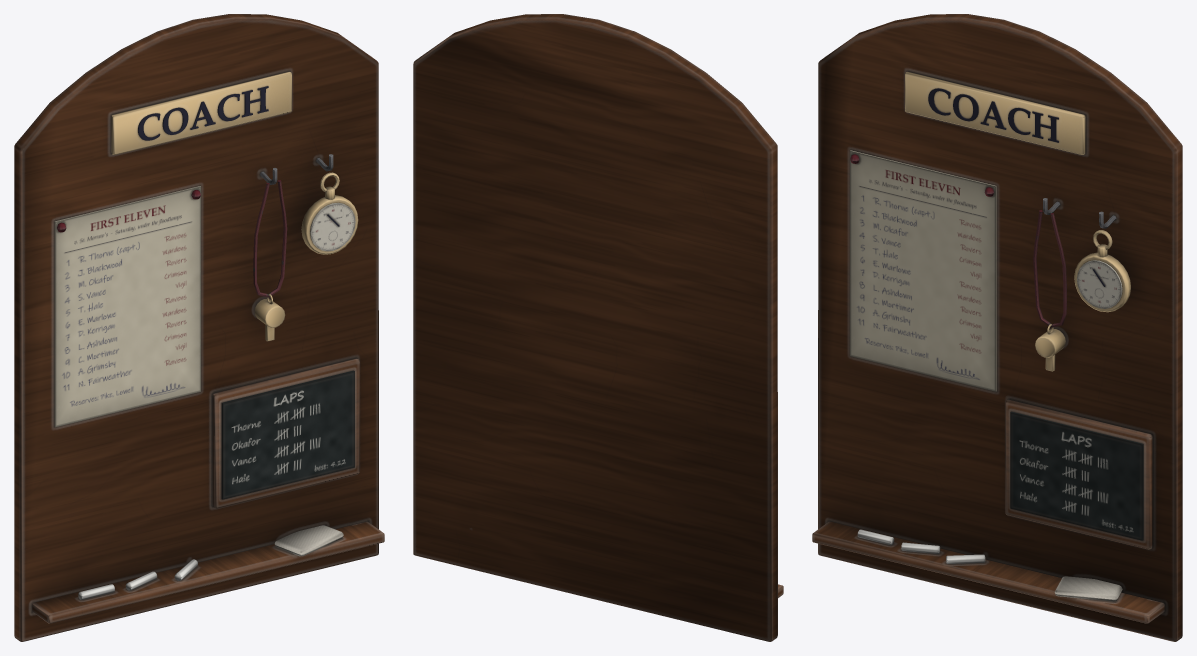
File: WhistleBoard.fbx
3 renders of one model, left to right at view 1: azimuth 30°, elevation 25°; view 2: azimuth 150°, elevation 25°; view 3: azimuth 330°, elevation 25°, orthographic.
Parts seen in each view (by area): view 1: WhistleBoard; view 2: WhistleBoard; view 3: WhistleBoard.
Boxes of the visible parts, bbox=[...] form: WhistleBoard: bbox=[14, 14, 384, 641]; WhistleBoard: bbox=[413, 14, 783, 641]; WhistleBoard: bbox=[812, 14, 1182, 641].
Bounding box in the file's own units: 320 × 490 × 44.83.
